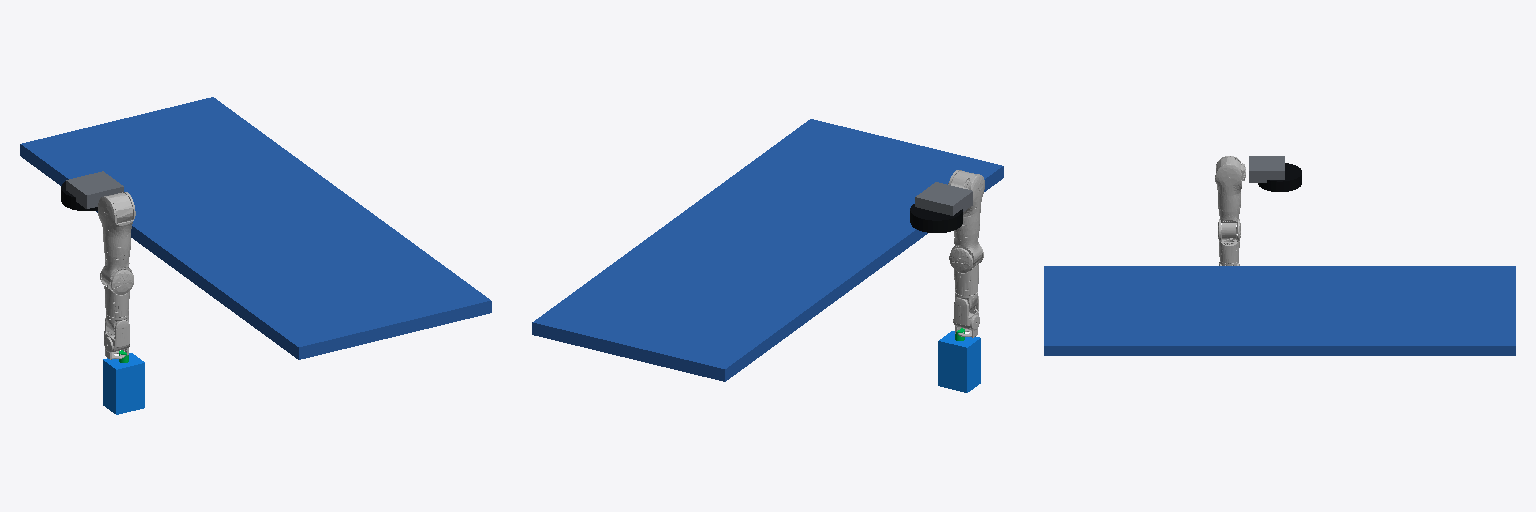
robot.urdf — a7_lite_right:
<?xml version="1.0" encoding="utf-8"?>
<!-- Joint kinematics (axes, limits, joint origins, effort/velocity)
     come from the vendor's per-side a7_lite_right URDF — the URDF the
     real robot/recorder uses. The previously committed component
     was derived from the combined LZARMzongzhuang.urdf, which had
     different sign conventions on R1/R2/R4 (axes flipped, limits
     negated/swapped) plus 12 mm errors on R3/R4 origin Z. Replay was
     getting clamped because of those.

     Inertials and mount-pad offsets (in a7_lite_torso) keep the
     LZARMzongzhuang values: the per-side URDFs assume a different
     base_link STL than the one our torso ships, so the truth's
     (0, -0.1435, 0) shoulder offset doesn't apply here.

     This component re-roots at a zero-mass virtual link R_arm_root so
     the recipe's fixed mount joint can live above the first revolute
     R1_JOINT. Converted in this ROS2 package to keep joint names aligned
     with /linker/arm/state (R1_JOINT..R7_JOINT) and mesh URIs installable
     through package://linker_manipulation. -->
<robot name="a7_lite_right">

  <link name="base_link">
    <visual>
      <origin xyz="0 0 -0.025" rpy="0 0 0" />
      <geometry>
        <cylinder radius="0.095" length="0.05" />
      </geometry>
      <material name="base_dark">
        <color rgba="0.08 0.09 0.10 1.0" />
      </material>
    </visual>
    <visual>
      <origin xyz="0 -0.055 0.012" rpy="0 0 0" />
      <geometry>
        <box size="0.155 0.15 0.055" />
      </geometry>
      <material name="base_plate">
        <color rgba="0.45 0.47 0.50 1.0" />
      </material>
    </visual>
  </link>

  <link name="table_collision">
    <visual>
      <origin xyz="0 0 0" rpy="0 0 0" />
      <geometry>
        <box size="0.8 2.0 0.05" />
      </geometry>
      <material name="table_surface">
        <color rgba="0.20 0.42 0.72 0.35" />
      </material>
    </visual>
    <collision>
      <origin xyz="0 0 0" rpy="0 0 0" />
      <geometry>
        <box size="0.8 2.0 0.05" />
      </geometry>
    </collision>
  </link>
  <joint name="base_to_table_collision" type="fixed">
    <origin xyz="0.7 0 -0.325" rpy="0 0 0" />
    <parent link="base_link" />
    <child link="table_collision" />
  </joint>

  <link name="R_arm_root" />
  <joint name="base_to_R_arm_root" type="fixed">
    <origin xyz="0 -0.1435 0" rpy="0 0 0" />
    <parent link="base_link" />
    <child link="R_arm_root" />
  </joint>

  <link name="R1_Link">
    <inertial>
      <origin xyz="0.004598 -0.067915 0.00072736" rpy="0 0 0" />
      <mass value="1.1899" />
      <inertia
        ixx="0.0016082" ixy="-3.3435E-06" ixz="3.9187E-07"
        iyy="0.00086157" iyz="-6.5828E-06"
        izz="0.00092788" />
    </inertial>
    <visual>
      <origin xyz="0 0 0" rpy="0 0 0" />
      <geometry>
        <mesh filename="package://linker_manipulation/urdf/meshes/a7_lite_right/R1_Link.STL" />
      </geometry>
      <material name="">
        <color rgba="0.75294 0.75294 0.75294 1" />
      </material>
    </visual>
    <collision>
      <origin xyz="0 0 0" rpy="0 0 0" />
      <geometry>
        <mesh filename="package://linker_manipulation/urdf/meshes/a7_lite_right/R1_Link.STL" />
      </geometry>
    </collision>
  </link>
  <joint name="R1_JOINT" type="revolute">
    <origin xyz="0 0 0" rpy="0 0 0" />
    <parent link="R_arm_root" />
    <child link="R1_Link" />
    <axis xyz="0 1 0" />
    <limit lower="-3.75" upper="2.18" effort="60" velocity="18.84" />
  </joint>

  <link name="R2_Link">
    <inertial>
      <origin xyz="-0.031363 2.7784E-05 -0.099445" rpy="0 0 0" />
      <mass value="1.0663" />
      <inertia
        ixx="0.0014523" ixy="-8.9962E-07" ixz="-1.031E-06"
        iyy="0.0012484" iyz="1.1436E-05"
        izz="0.0010754" />
    </inertial>
    <visual>
      <origin xyz="0 0 0" rpy="0 0 0" />
      <geometry>
        <mesh filename="package://linker_manipulation/urdf/meshes/a7_lite_right/R2_Link.STL" />
      </geometry>
      <material name="">
        <color rgba="0.75294 0.75294 0.75294 1" />
      </material>
    </visual>
    <collision>
      <origin xyz="0 0 0" rpy="0 0 0" />
      <geometry>
        <mesh filename="package://linker_manipulation/urdf/meshes/a7_lite_right/R2_Link.STL" />
      </geometry>
    </collision>
  </link>
  <joint name="R2_JOINT" type="revolute">
    <origin xyz="0.03125 -0.0715 0" rpy="0 0 0" />
    <parent link="R1_Link" />
    <child link="R2_Link" />
    <axis xyz="-1 0 0" />
    <limit lower="-0.19" upper="3.33" effort="60" velocity="18.84" />
  </joint>

  <link name="R3_Link">
    <inertial>
      <origin xyz="-2.2895E-05 -0.00123 -0.077166" rpy="0 0 0" />
      <mass value="1.3517" />
      <inertia
        ixx="0.00080502" ixy="2.8702E-07" ixz="7.1845E-06"
        iyy="0.0010686" iyz="-7.5659E-07"
        izz="0.00067469" />
    </inertial>
    <visual>
      <origin xyz="0 0 0" rpy="0 0 0" />
      <geometry>
        <mesh filename="package://linker_manipulation/urdf/meshes/a7_lite_right/R3_Link.STL" />
      </geometry>
      <material name="">
        <color rgba="0.75294 0.75294 0.75294 1" />
      </material>
    </visual>
    <collision>
      <origin xyz="0 0 0" rpy="0 0 0" />
      <geometry>
        <mesh filename="package://linker_manipulation/urdf/meshes/a7_lite_right/R3_Link.STL" />
      </geometry>
    </collision>
  </link>
  <joint name="R3_JOINT" type="revolute">
    <origin xyz="-0.03125 0 -0.147" rpy="0 0 0" />
    <parent link="R2_Link" />
    <child link="R3_Link" />
    <axis xyz="0 0 1" />
    <limit lower="-2.26" upper="2.26" effort="17" velocity="37.68" />
  </joint>

  <link name="R4_Link">
    <inertial>
      <origin xyz="1.2714E-05 0.024908 -0.082641" rpy="0 0 0" />
      <mass value="0.69691" />
      <inertia
        ixx="0.00041505" ixy="5.3251E-08" ixz="1.7254E-06"
        iyy="0.00041627" iyz="3.826E-07"
        izz="0.00043007" />
    </inertial>
    <visual>
      <origin xyz="0 0 0" rpy="0 0 0" />
      <geometry>
        <mesh filename="package://linker_manipulation/urdf/meshes/a7_lite_right/R4_Link.STL" />
      </geometry>
      <material name="">
        <color rgba="0.75294 0.75294 0.75294 1" />
      </material>
    </visual>
    <collision>
      <origin xyz="0 0 0" rpy="0 0 0" />
      <geometry>
        <mesh filename="package://linker_manipulation/urdf/meshes/a7_lite_right/R4_Link.STL" />
      </geometry>
    </collision>
  </link>
  <joint name="R4_JOINT" type="revolute">
    <origin xyz="0 -0.027 -0.126" rpy="0 0 0" />
    <parent link="R3_Link" />
    <child link="R4_Link" />
    <axis xyz="0 1 0" />
    <limit lower="-1.74" upper="0.78" effort="36" velocity="10.47" />
  </joint>

  <link name="R5_Link">
    <inertial>
      <origin xyz="0.00029153 -0.0027009 -0.035875" rpy="0 0 0" />
      <mass value="0.48527" />
      <inertia
        ixx="0.00016555" ixy="-5.747E-07" ixz="-2.6985E-06"
        iyy="0.00022756" iyz="-9.211E-07"
        izz="0.00015289" />
    </inertial>
    <visual>
      <origin xyz="0 0 0" rpy="0 0 0" />
      <geometry>
        <mesh filename="package://linker_manipulation/urdf/meshes/a7_lite_right/R5_Link.STL" />
      </geometry>
      <material name="">
        <color rgba="0.75294 0.75294 0.75294 1" />
      </material>
    </visual>
    <collision>
      <origin xyz="0 0 0" rpy="0 0 0" />
      <geometry>
        <mesh filename="package://linker_manipulation/urdf/meshes/a7_lite_right/R5_Link.STL" />
      </geometry>
    </collision>
  </link>
  <joint name="R5_JOINT" type="revolute">
    <origin xyz="0 0.027 -0.136" rpy="0 0 0" />
    <parent link="R4_Link" />
    <child link="R5_Link" />
    <axis xyz="0 0 1" />
    <limit lower="-2.96" upper="2.96" effort="14" velocity="27.21" />
  </joint>

  <link name="R6_Link">
    <inertial>
      <origin xyz="0.0023746 0.027704 -0.063949" rpy="0 0 0" />
      <mass value="0.5193" />
      <inertia
        ixx="0.00031746" ixy="6.3467E-07" ixz="4.1001E-07"
        iyy="0.00024364" iyz="-2.8219E-06"
        izz="0.00015858" />
    </inertial>
    <visual>
      <origin xyz="0 0 0" rpy="0 0 0" />
      <geometry>
        <mesh filename="package://linker_manipulation/urdf/meshes/a7_lite_right/R6_Link.STL" />
      </geometry>
      <material name="">
        <color rgba="0.75294 0.75294 0.75294 1" />
      </material>
    </visual>
    <collision>
      <origin xyz="0 0 0" rpy="0 0 0" />
      <geometry>
        <mesh filename="package://linker_manipulation/urdf/meshes/a7_lite_right/R6_Link.STL" />
      </geometry>
    </collision>
  </link>
  <joint name="R6_JOINT" type="revolute">
    <origin xyz="0 -0.028 -0.0435" rpy="0 0 0" />
    <parent link="R5_Link" />
    <child link="R6_Link" />
    <axis xyz="0 1 0" />
    <limit lower="-1.57" upper="1.57" effort="14" velocity="27.21" />
  </joint>

  <link name="R7_Link">
    <inertial>
      <origin xyz="-0.026598 3.7248E-14 -0.025801" rpy="0 0 0" />
      <mass value="0.10175" />
      <inertia
        ixx="4.5036E-05" ixy="-4.7046E-12" ixz="2.2349E-07"
        iyy="3.8663E-05" iyz="-1.5968E-20"
        izz="3.0632E-05" />
    </inertial>
    <visual>
      <origin xyz="0 0 0" rpy="0 0 0" />
      <geometry>
        <mesh filename="package://linker_manipulation/urdf/meshes/a7_lite_right/R7_Link.STL" />
      </geometry>
      <material name="">
        <color rgba="0.75294 0.75294 0.75294 1" />
      </material>
    </visual>
    <collision>
      <origin xyz="0 0 0" rpy="0 0 0" />
      <geometry>
        <mesh filename="package://linker_manipulation/urdf/meshes/a7_lite_right/R7_Link.STL" />
      </geometry>
    </collision>
  </link>
  <joint name="R7_JOINT" type="revolute">
    <origin xyz="0.028 0.028 -0.075" rpy="0 0 0" />
    <parent link="R6_Link" />
    <child link="R7_Link" />
    <axis xyz="-1 0 0" />
    <limit lower="-1.57" upper="1.57" effort="14" velocity="27.21" />
  </joint>

  <link name="tcp_link">
    <visual>
      <origin xyz="0 0 0" rpy="0 0 0" />
      <geometry>
        <sphere radius="0.018" />
      </geometry>
      <material name="tcp_green">
        <color rgba="0.0 0.8 0.35 1.0" />
      </material>
    </visual>
    <visual>
      <origin xyz="0 0 0.018" rpy="0 0 0" />
      <geometry>
        <cylinder radius="0.018" length="0.036" />
      </geometry>
      <material name="tcp_green" />
    </visual>
  </link>
  <joint name="tcp_fixed_joint" type="fixed">
    <origin xyz="0 0 -0.08" rpy="0 0 0" />
    <parent link="R7_Link" />
    <child link="tcp_link" />
  </joint>

  <link name="hand_collision_proxy">
    <visual>
      <origin xyz="0 0 0" rpy="0 0 0" />
      <geometry>
        <box size="0.12 0.10 0.18" />
      </geometry>
      <material name="hand_collision_proxy_blue">
        <color rgba="0.10 0.55 0.95 0.28" />
      </material>
    </visual>
    <collision>
      <origin xyz="0 0 0" rpy="0 0 0" />
      <geometry>
        <box size="0.12 0.10 0.18" />
      </geometry>
    </collision>
  </link>
  <joint name="tcp_to_hand_collision_proxy" type="fixed">
    <origin xyz="0 0 -0.09" rpy="0 0 0" />
    <parent link="tcp_link" />
    <child link="hand_collision_proxy" />
  </joint>

  <ros2_control name="A7LiteRightSystem" type="system">
    <hardware>
      <plugin>mock_components/GenericSystem</plugin>
    </hardware>
    <joint name="R1_JOINT">
      <command_interface name="position">
        <param name="min">-3.75</param>
        <param name="max">2.18</param>
      </command_interface>
      <state_interface name="position">
        <param name="initial_value">0.0</param>
      </state_interface>
      <state_interface name="velocity" />
      <state_interface name="effort" />
    </joint>
    <joint name="R2_JOINT">
      <command_interface name="position">
        <param name="min">-0.19</param>
        <param name="max">3.33</param>
      </command_interface>
      <state_interface name="position">
        <param name="initial_value">0.0</param>
      </state_interface>
      <state_interface name="velocity" />
      <state_interface name="effort" />
    </joint>
    <joint name="R3_JOINT">
      <command_interface name="position">
        <param name="min">-2.26</param>
        <param name="max">2.26</param>
      </command_interface>
      <state_interface name="position">
        <param name="initial_value">0.0</param>
      </state_interface>
      <state_interface name="velocity" />
      <state_interface name="effort" />
    </joint>
    <joint name="R4_JOINT">
      <command_interface name="position">
        <param name="min">-1.74</param>
        <param name="max">0.78</param>
      </command_interface>
      <state_interface name="position">
        <param name="initial_value">0.0</param>
      </state_interface>
      <state_interface name="velocity" />
      <state_interface name="effort" />
    </joint>
    <joint name="R5_JOINT">
      <command_interface name="position">
        <param name="min">-2.96</param>
        <param name="max">2.96</param>
      </command_interface>
      <state_interface name="position">
        <param name="initial_value">0.0</param>
      </state_interface>
      <state_interface name="velocity" />
      <state_interface name="effort" />
    </joint>
    <joint name="R6_JOINT">
      <command_interface name="position">
        <param name="min">-1.57</param>
        <param name="max">1.57</param>
      </command_interface>
      <state_interface name="position">
        <param name="initial_value">0.0</param>
      </state_interface>
      <state_interface name="velocity" />
      <state_interface name="effort" />
    </joint>
    <joint name="R7_JOINT">
      <command_interface name="position">
        <param name="min">-1.57</param>
        <param name="max">1.57</param>
      </command_interface>
      <state_interface name="position">
        <param name="initial_value">0.0</param>
      </state_interface>
      <state_interface name="velocity" />
      <state_interface name="effort" />
    </joint>
  </ros2_control>

</robot>

--- Facts derived from the render (not from the file) ---
The picture shows the robot from 3 angles, left to right: view 1: azimuth 30°, elevation 25°; view 2: azimuth 150°, elevation 25°; view 3: azimuth 270°, elevation 25°; orthographic projection.
Model a7_lite_right with 12 links and 11 joints (7 revolute, 4 fixed), rooted at base_link, posed all joints at 0.
Links seen in each view (by area): view 1: table_collision, hand_collision_proxy, base_link, R2_Link, R4_Link, R6_Link; view 2: table_collision, base_link, hand_collision_proxy, R4_Link, R2_Link, R6_Link; view 3: table_collision, base_link, R2_Link, R4_Link.
Link boxes in pixels (left/top/right/bottom): table_collision: left=20, top=97, right=491, bottom=359; hand_collision_proxy: left=103, top=353, right=144, bottom=414; base_link: left=61, top=171, right=123, bottom=210; R2_Link: left=98, top=192, right=135, bottom=256; R4_Link: left=100, top=267, right=133, bottom=317; R6_Link: left=104, top=318, right=129, bottom=351; table_collision: left=532, top=119, right=1003, bottom=381; base_link: left=910, top=182, right=972, bottom=232; hand_collision_proxy: left=938, top=331, right=980, bottom=392; R4_Link: left=949, top=247, right=983, bottom=295; R2_Link: left=948, top=170, right=984, bottom=234; R6_Link: left=954, top=296, right=978, bottom=330; table_collision: left=1044, top=266, right=1515, bottom=355; base_link: left=1249, top=156, right=1301, bottom=191; R2_Link: left=1215, top=156, right=1241, bottom=211; R4_Link: left=1218, top=219, right=1240, bottom=263.
Size in the robot's own frame: 1.2 by 2 by 0.8447 metres.
Meshes: 7 distinct files referenced, 7 mesh visuals loaded (7 binary STL).
